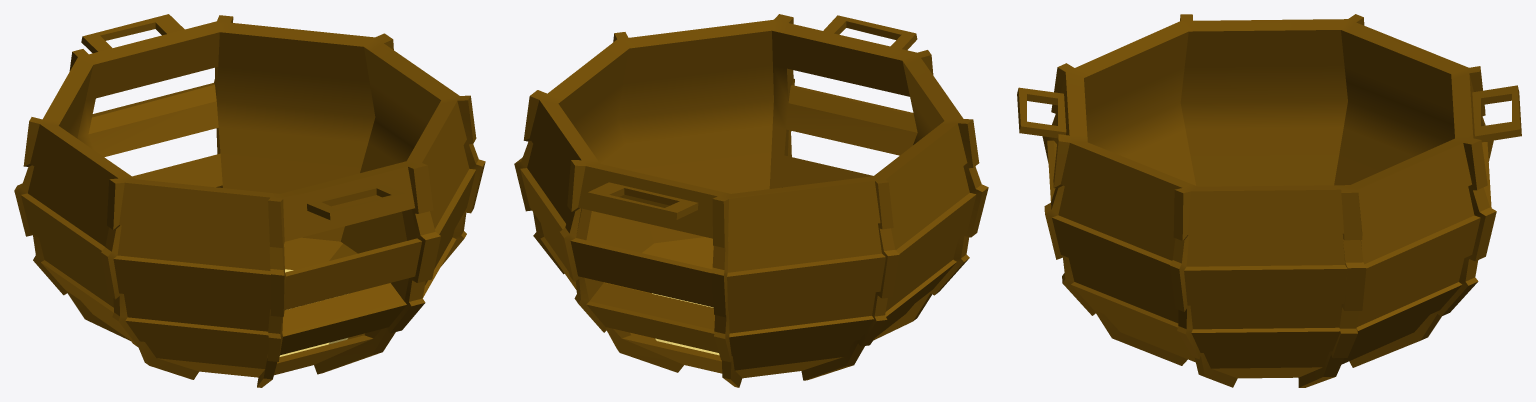
The model's file is basket.fbx.
3 renders of one model, left to right at view 1: azimuth 30°, elevation 25°; view 2: azimuth 150°, elevation 25°; view 3: azimuth 270°, elevation 25°, orthographic. The views are drawn at different scales.
Parts seen in each view (by area): view 1: pSphere3; view 2: pSphere3; view 3: pSphere3.
Boxes of the visible parts, <box> form: pSphere3: <box>14,14,485,387</box>; pSphere3: <box>514,14,988,387</box>; pSphere3: <box>1017,14,1521,387</box>.
Size of the model in its own units: 1.97 by 1.21 by 2.19.
